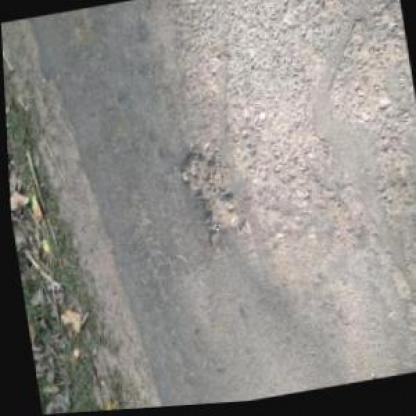pothole: (172, 144, 240, 248)
